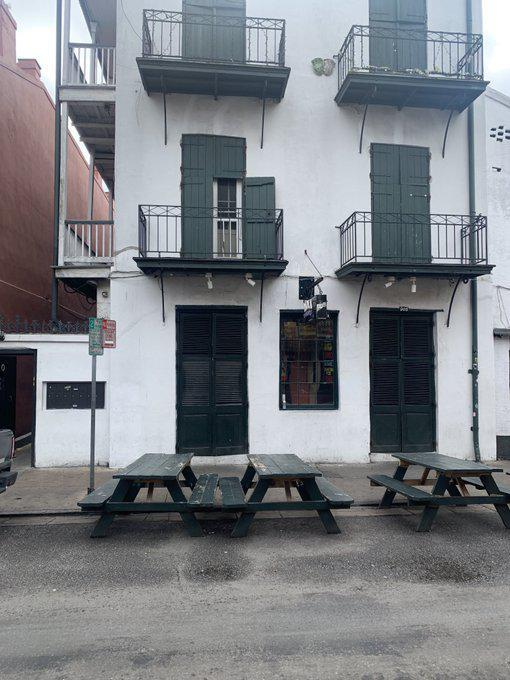affected: (37, 0, 505, 485)
